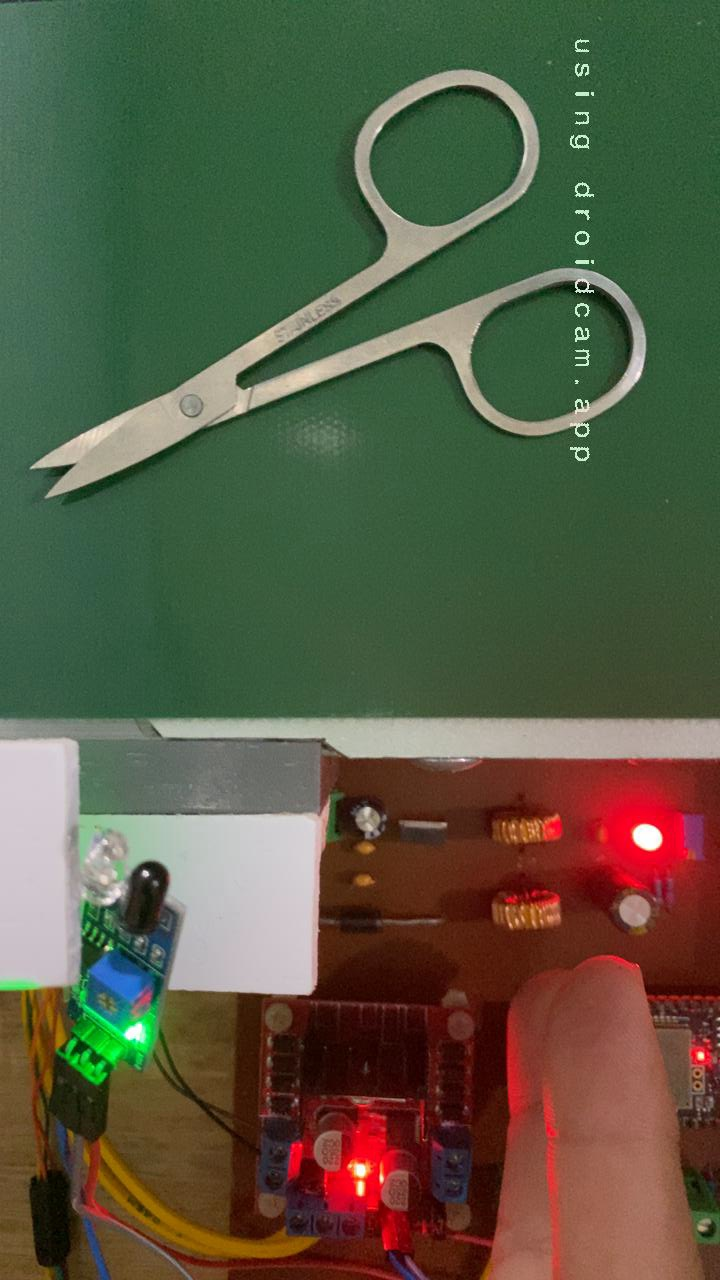scissor: (26, 63, 655, 506)
